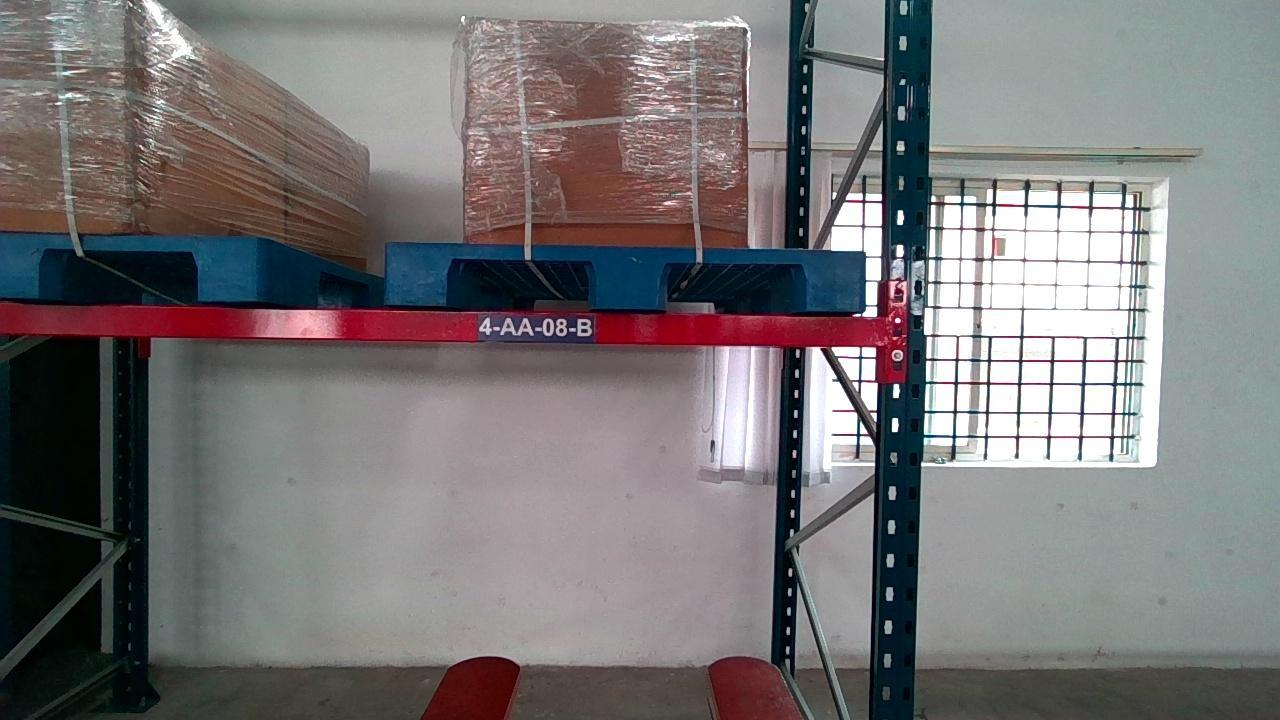h_rack: (0, 301, 890, 348)
small_pallet: (387, 245, 868, 308), (1, 232, 263, 301)
